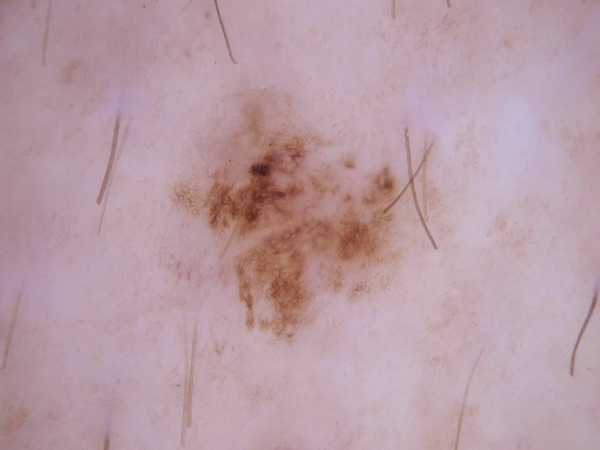Color changes: (244, 156, 288, 187)
